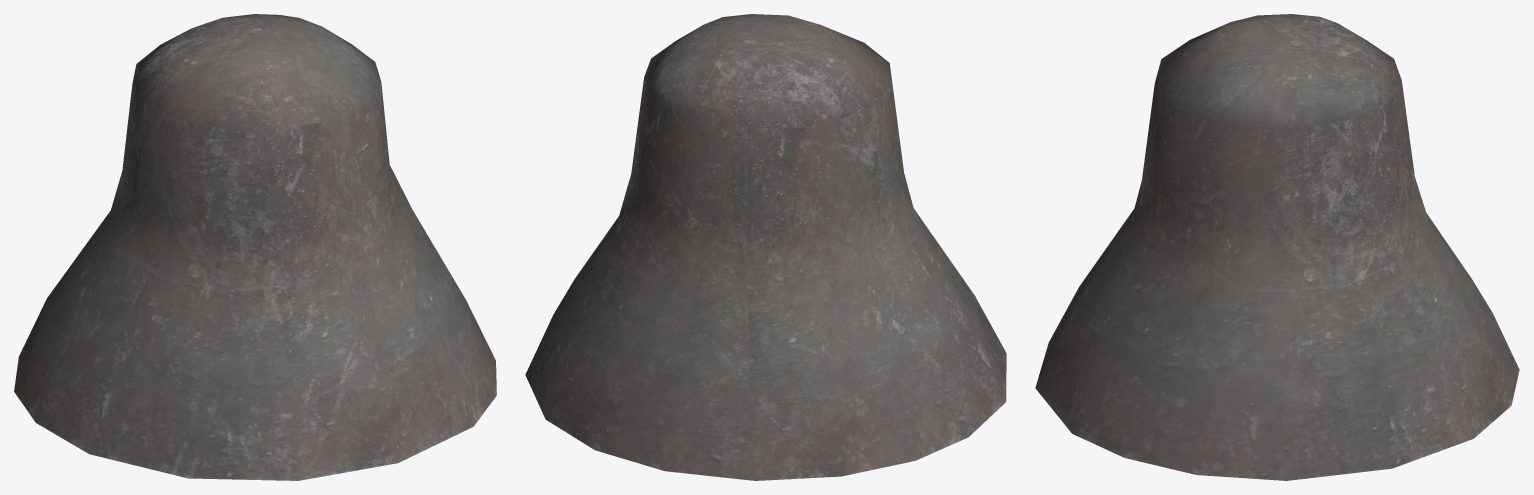
The model's file is Bell.fbx.
The picture shows the model from 3 angles, left to right: view 1: azimuth 30°, elevation 25°; view 2: azimuth 150°, elevation 25°; view 3: azimuth 270°, elevation 25°; orthographic projection.
Parts seen in each view (by area): view 1: Bell; view 2: Bell; view 3: Bell.
Part boxes in pixels (x1,y1,x2,y2): Bell: (14,14,496,480); Bell: (525,14,1006,480); Bell: (1035,14,1519,480).
Bounding box in the file's own units: 314 × 242 × 313.
1 material, 1 textured.
